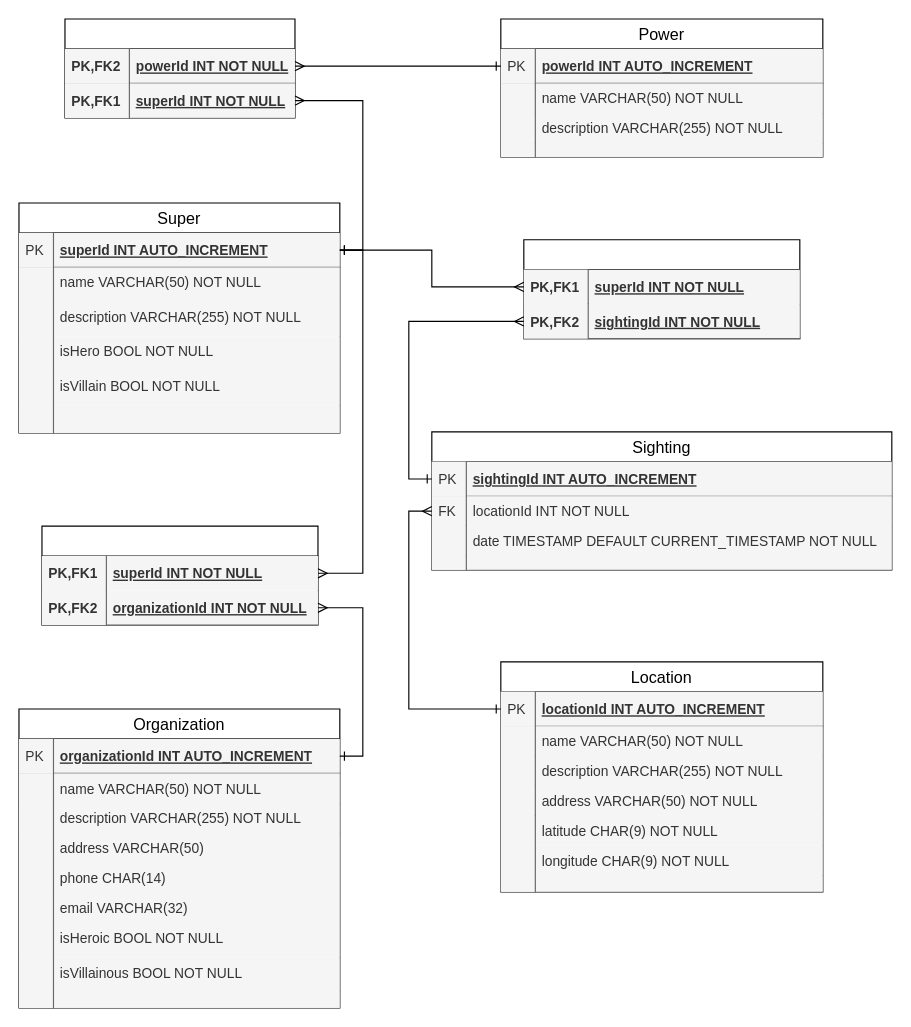
Image size: 911x1027. Some labels were removed from this diagram. Each missing label, with the box of its shape:
SuperOrganization: (41, 525, 318, 625)
SuperPower: (64, 18, 295, 118)
SuperSighting: (523, 239, 800, 339)
